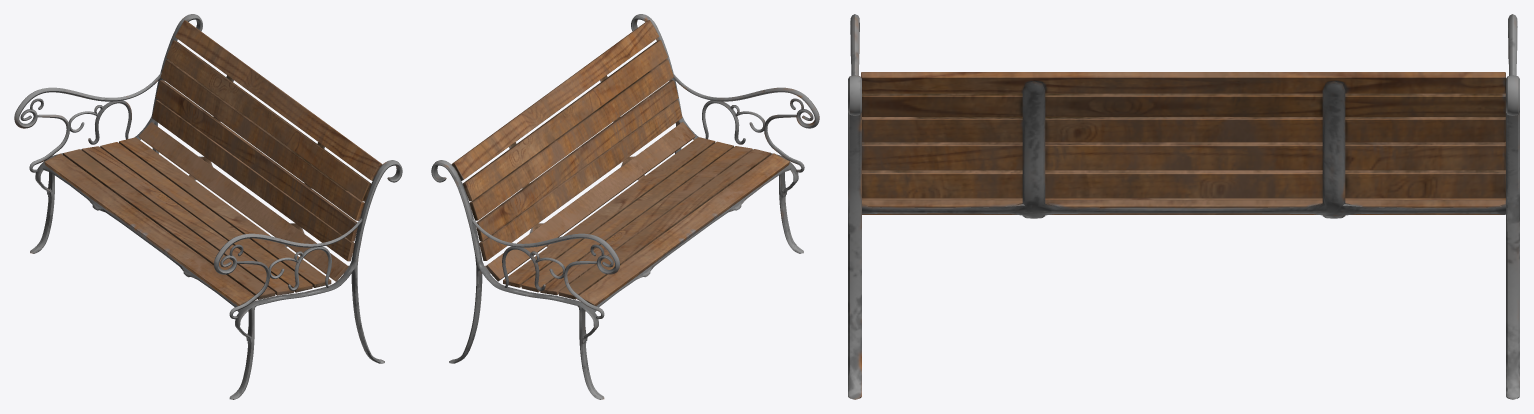
3 views of the same model, side by side, from view 1: azimuth 30°, elevation 25°; view 2: azimuth 150°, elevation 25°; view 3: azimuth 270°, elevation 25° (orthographic). The views are drawn at different scales.
Parts seen in each view (by area): view 1: Object_2, Object_3; view 2: Object_2, Object_3; view 3: Object_2, Object_3.
Boxes of the visible parts, x1,y1,x2,y2 form: Object_2: (14, 14, 402, 399); Object_3: (138, 100, 354, 281); Object_2: (431, 14, 819, 399); Object_3: (479, 100, 695, 281); Object_2: (848, 14, 1519, 399); Object_3: (862, 170, 1505, 214).
Size of the model in its own units: 345 by 351 by 651.
Materials: 1 (1 with a texture image).
